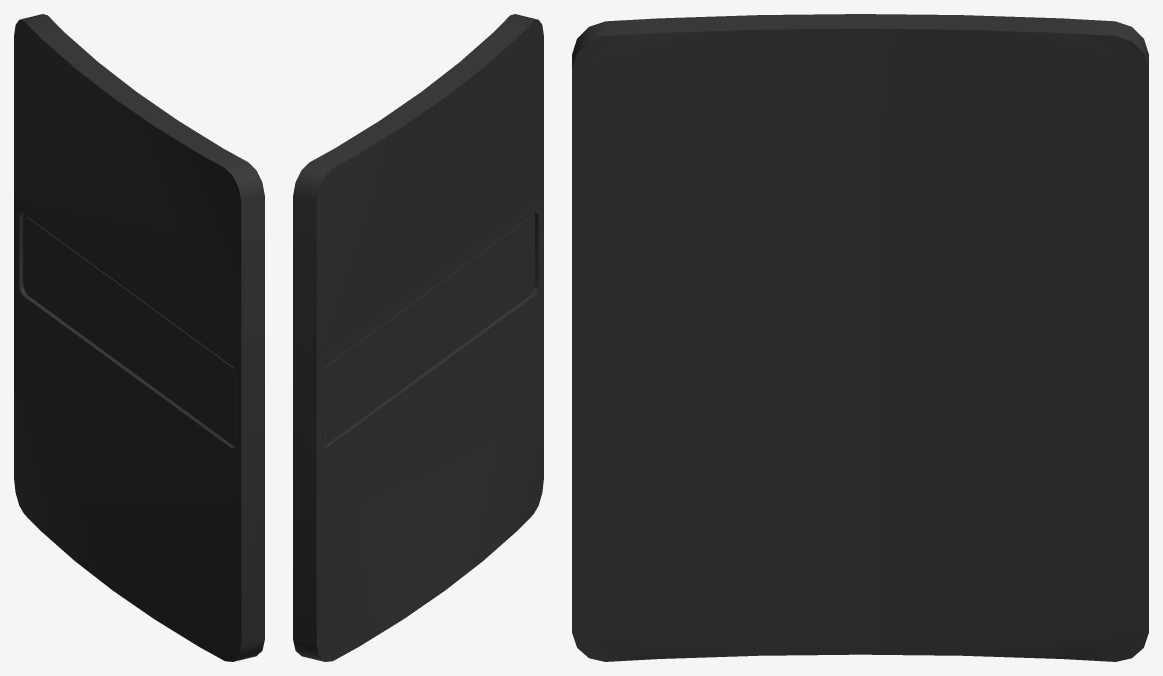
Rendered from RS_rocket_door.fbx.
3 renders of one model, left to right at view 1: azimuth 30°, elevation 25°; view 2: azimuth 150°, elevation 25°; view 3: azimuth 270°, elevation 25°, orthographic. The views are drawn at different scales.
Parts seen in each view (by area): view 1: RS_rocket.001; view 2: RS_rocket.001; view 3: RS_rocket.001.
Boxes of the visible parts, x1,y1,x2,y2 form: RS_rocket.001: (14, 14, 264, 661); RS_rocket.001: (293, 14, 543, 661); RS_rocket.001: (572, 14, 1148, 661).
Bounding box in the file's own units: 26.64 × 326 × 272.
